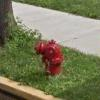Hydrant: (31, 32, 67, 84)
